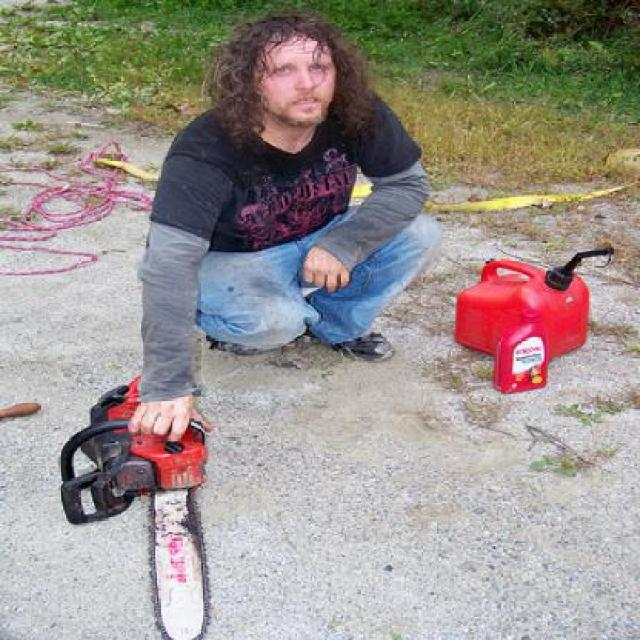Chainsaw: (60, 372, 215, 640)
